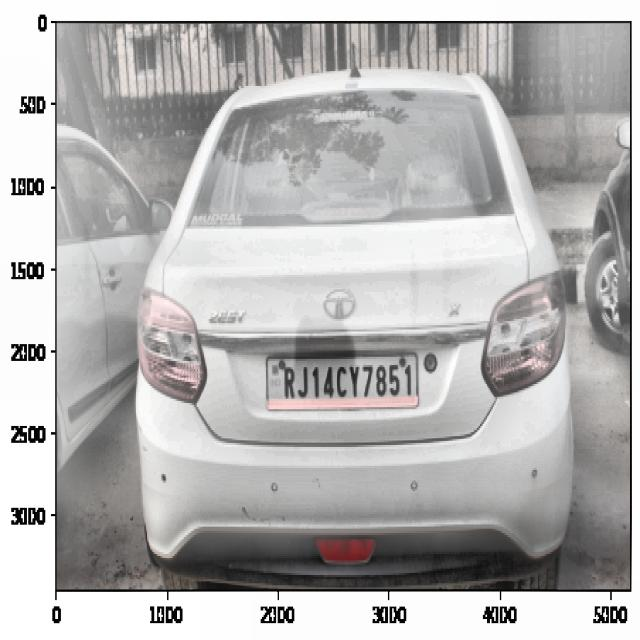license_plate: (278, 357, 416, 412)
